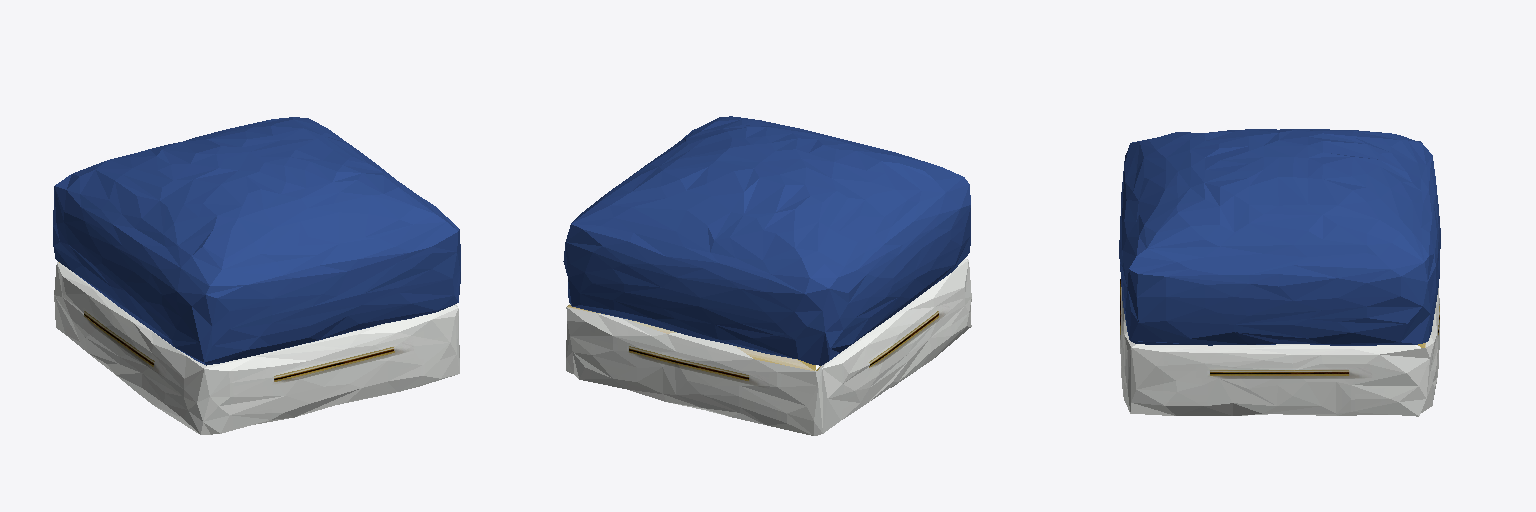
The picture shows the model from 3 angles: view 1: azimuth 30°, elevation 25°; view 2: azimuth 150°, elevation 25°; view 3: azimuth 270°, elevation 25°; orthographic projection.
Size of the model in its own units: 3.67 by 2.48 by 3.65.
2 materials, 2 textured.